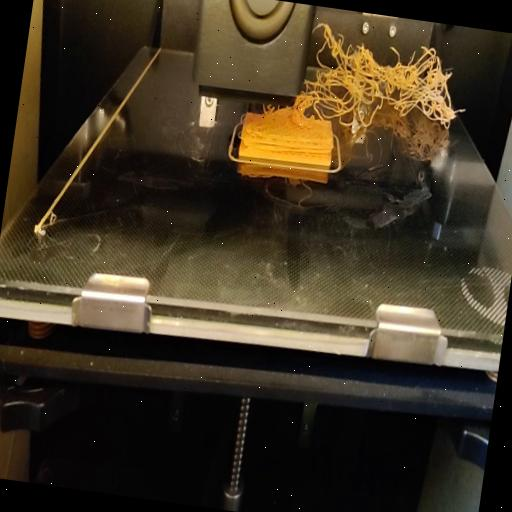spaghetti: (296, 18, 476, 146)
